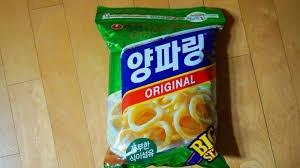snack: (95, 5, 231, 168)
